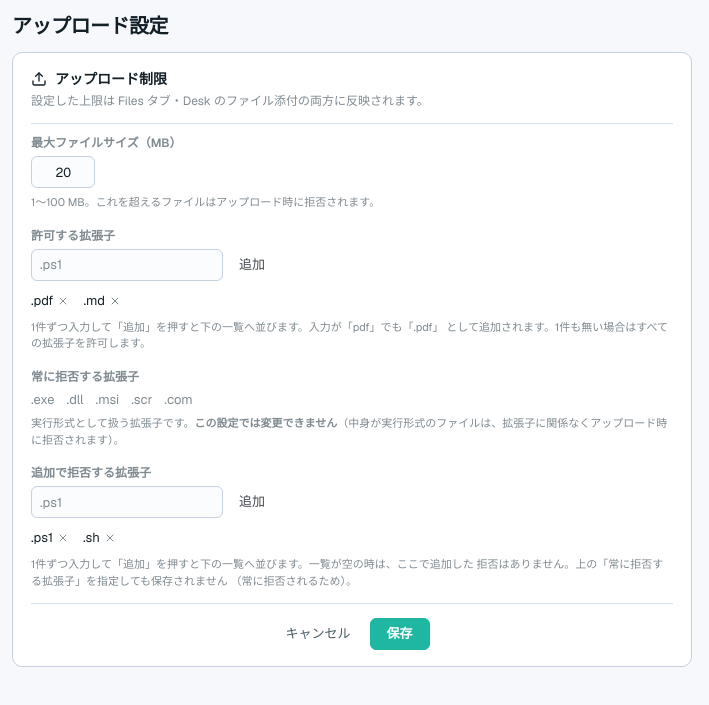
Test: フォーム操作（v2-203: 1件ずつの追加・解除） › 空のまま追加を押すと理由を出す
Click the button with aria-label "許可する拡張子を追加": (252, 264) [229,248,275,280]
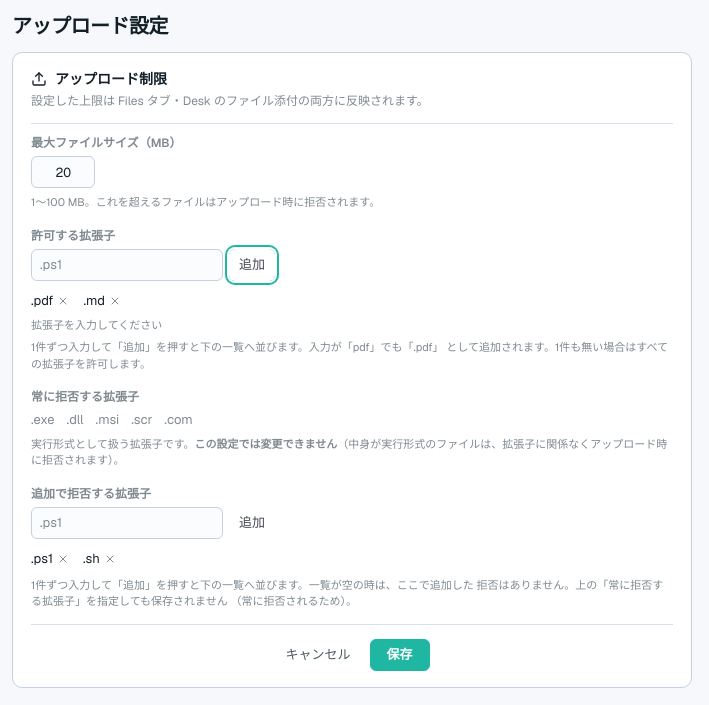
expect the message reads "拡張子を入力してください": met, box [31,318,162,332]
